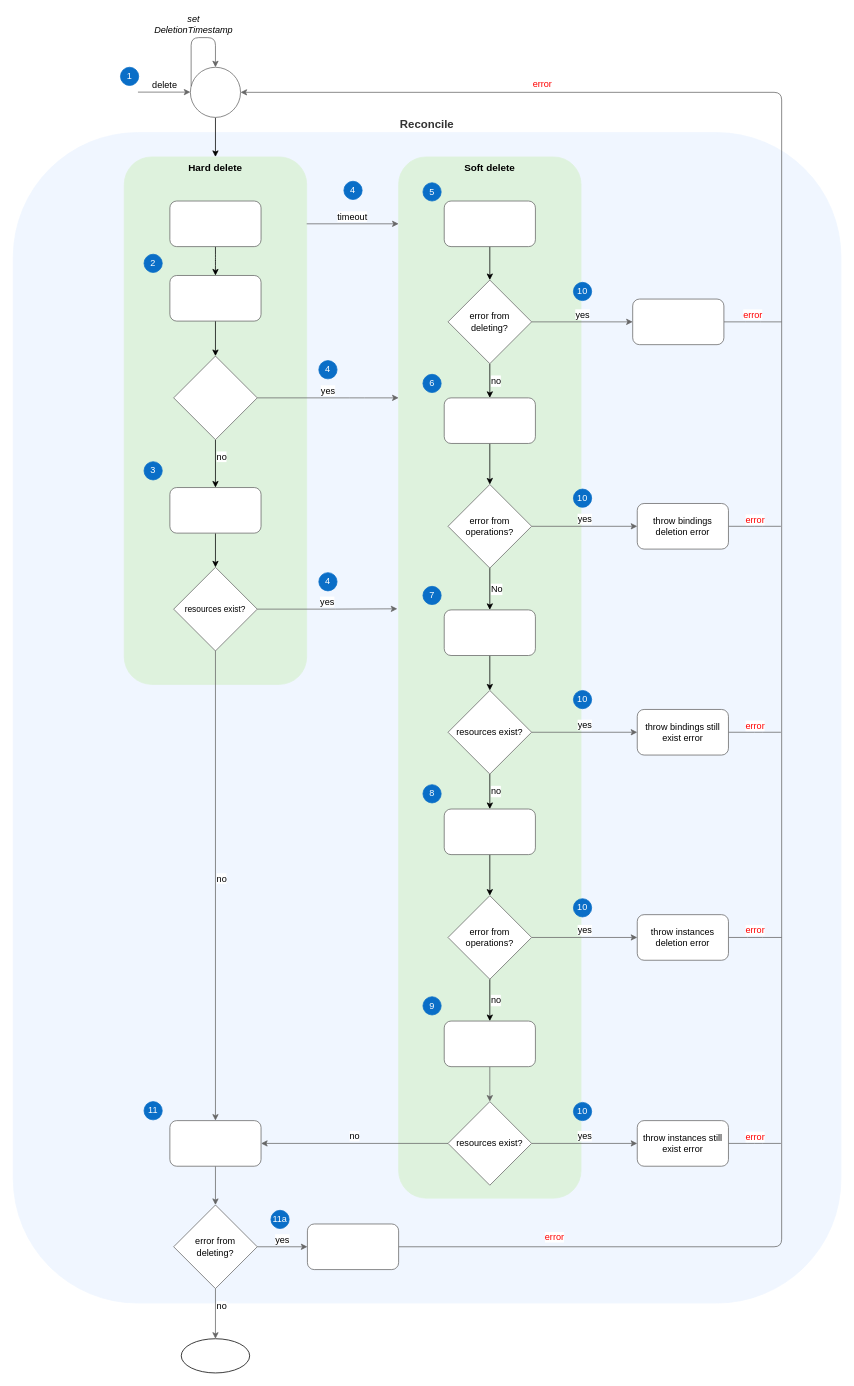
This 854x1386 diagram has some shape labels left out. The centre of each missing label's shape, as x and y in pixels:
"check leftover SBs" belongs at point 489,632.
"check leftover SBs, SIs" belongs at point 215,510.
"check leftover SIs" belongs at point 489,1043.
"CR" belongs at point 215,91.
"CR deleted" belongs at point 215,1355.
"delete deployment & webhooks" belongs at point 489,223.
"delete module resources" belongs at point 215,1143.
"error from deleting SBs, SIs?" belongs at point 215,397.
"remove finalizers from SBs and delete related Secrets" belongs at point 489,420.
"remove finalizers from SIs" belongs at point 489,831.
"throw delete module resources error" belongs at point 353,1246.
"throw deprovisioning error" belongs at point 678,321.
"try to delete ServiceBindings (SBs)" belongs at point 215,223.
"try to delete ServiceInstances (SIs)" belongs at point 215,298.
